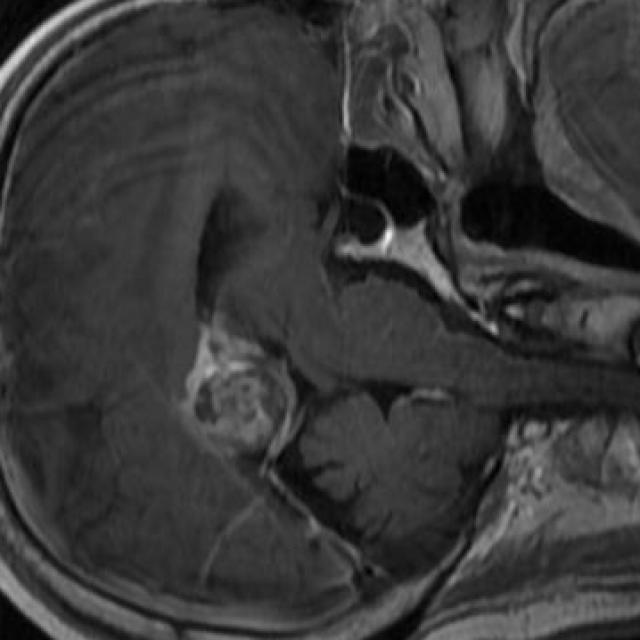glioma: (176, 314, 298, 462)
